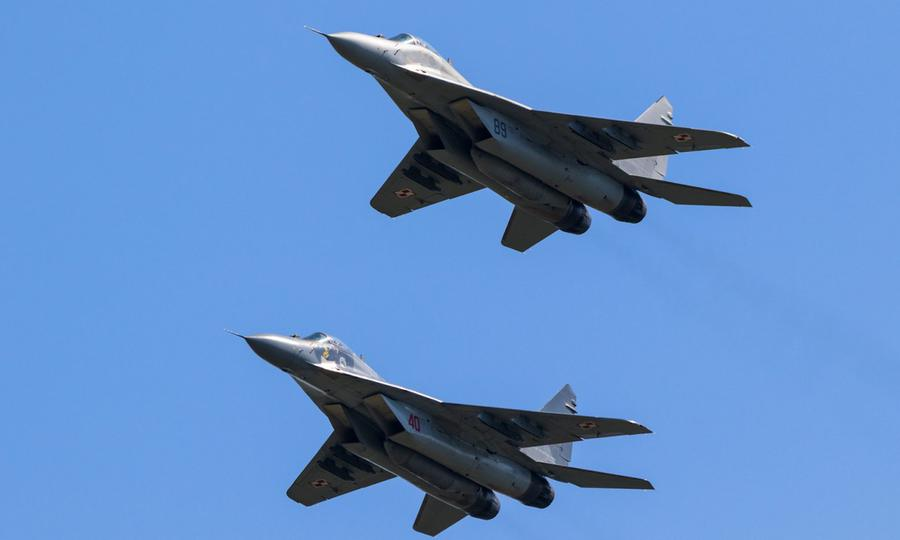Mig-29: (287, 13, 724, 245), (232, 309, 633, 529)
